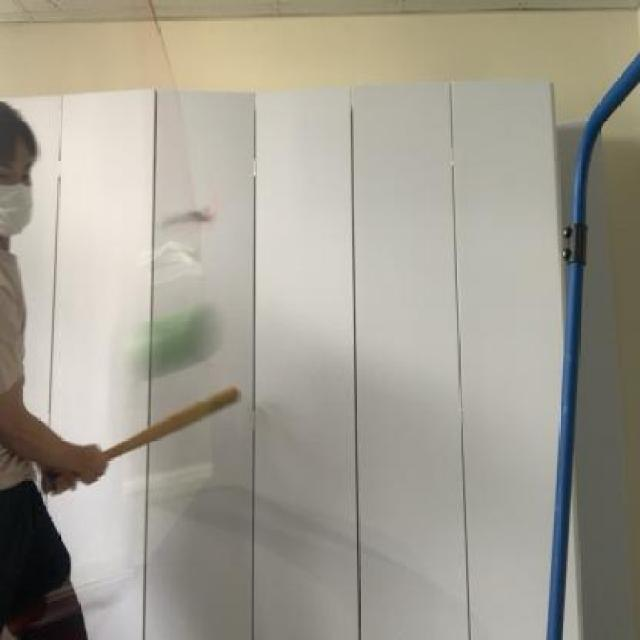baseball: (118, 302, 232, 384)
